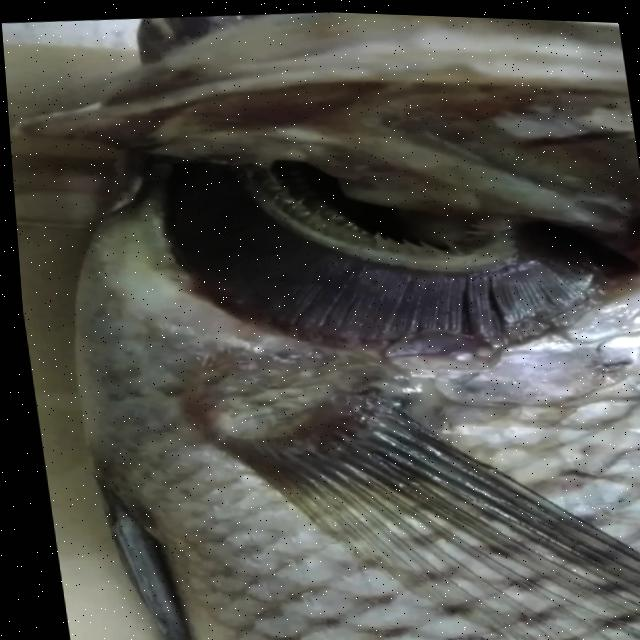Non-Fresh: (120, 128, 636, 393)
